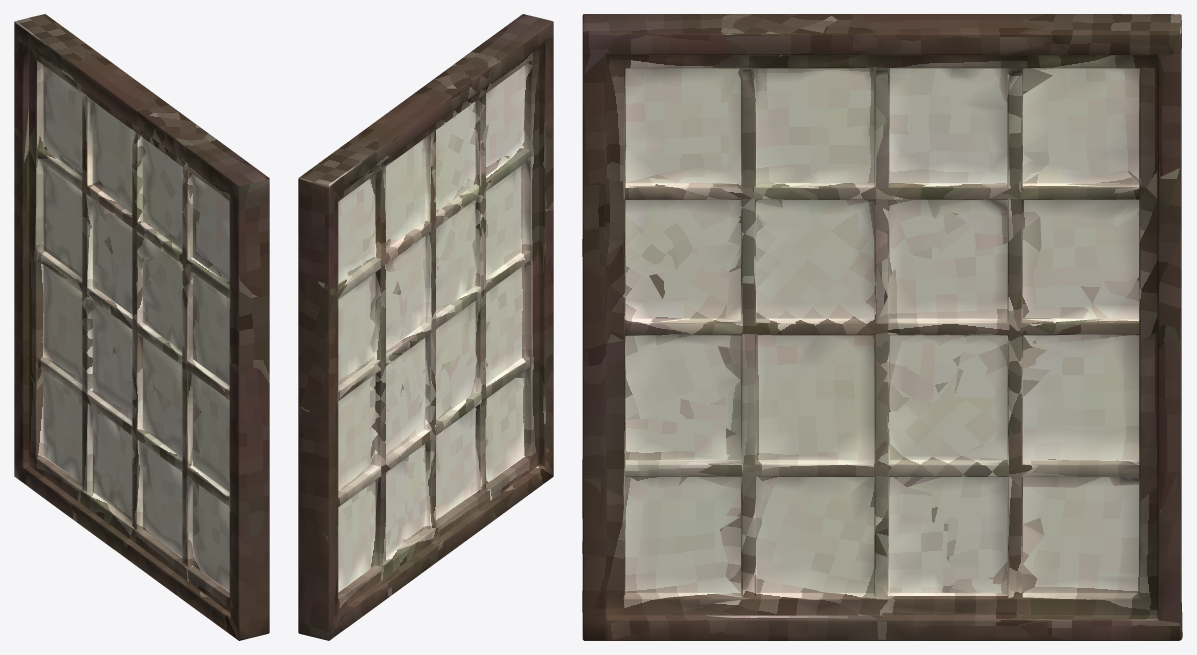
Rendered from JP_사물_s2_prop_window.glb.
3 renders of one model, left to right at view 1: azimuth 30°, elevation 25°; view 2: azimuth 150°, elevation 25°; view 3: azimuth 270°, elevation 25°, orthographic. The views are drawn at different scales.
Visible parts, largest first — view 1: tripo_node_1fe0ed68-c439-4deb-aaea-355711b3f0b8; view 2: tripo_node_1fe0ed68-c439-4deb-aaea-355711b3f0b8; view 3: tripo_node_1fe0ed68-c439-4deb-aaea-355711b3f0b8.
Boxes of the visible parts, box(x1,y1,x2,y2) form: tripo_node_1fe0ed68-c439-4deb-aaea-355711b3f0b8: box(14, 14, 269, 640); tripo_node_1fe0ed68-c439-4deb-aaea-355711b3f0b8: box(298, 14, 553, 640); tripo_node_1fe0ed68-c439-4deb-aaea-355711b3f0b8: box(582, 14, 1182, 640).
Size of the model in its own units: 0.0725 by 1 by 0.8947.
1 material, 1 textured.
